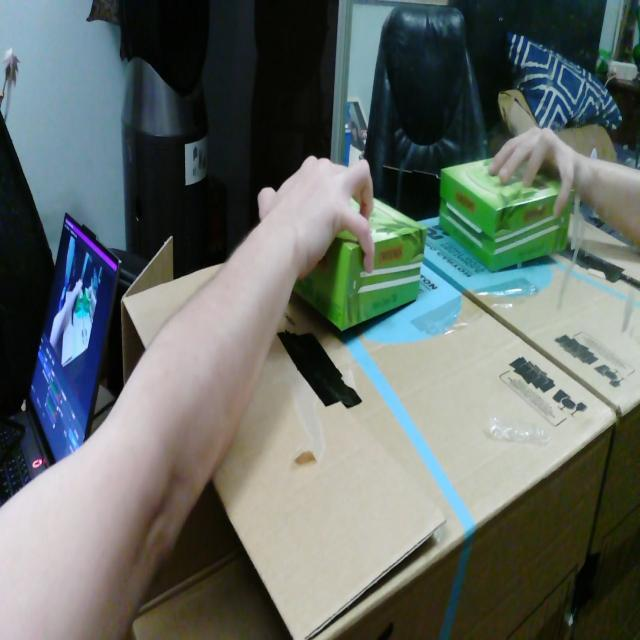twinings_greentea_box: (294, 198, 427, 330)
